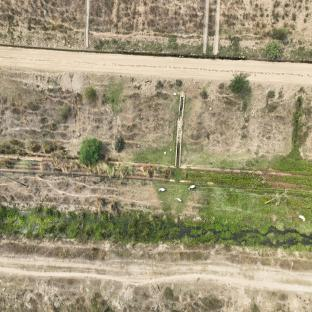slope_drain: (174, 95, 187, 170)
vegetation: (79, 140, 100, 165)
